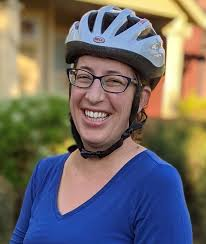helmet: (63, 5, 165, 146)
